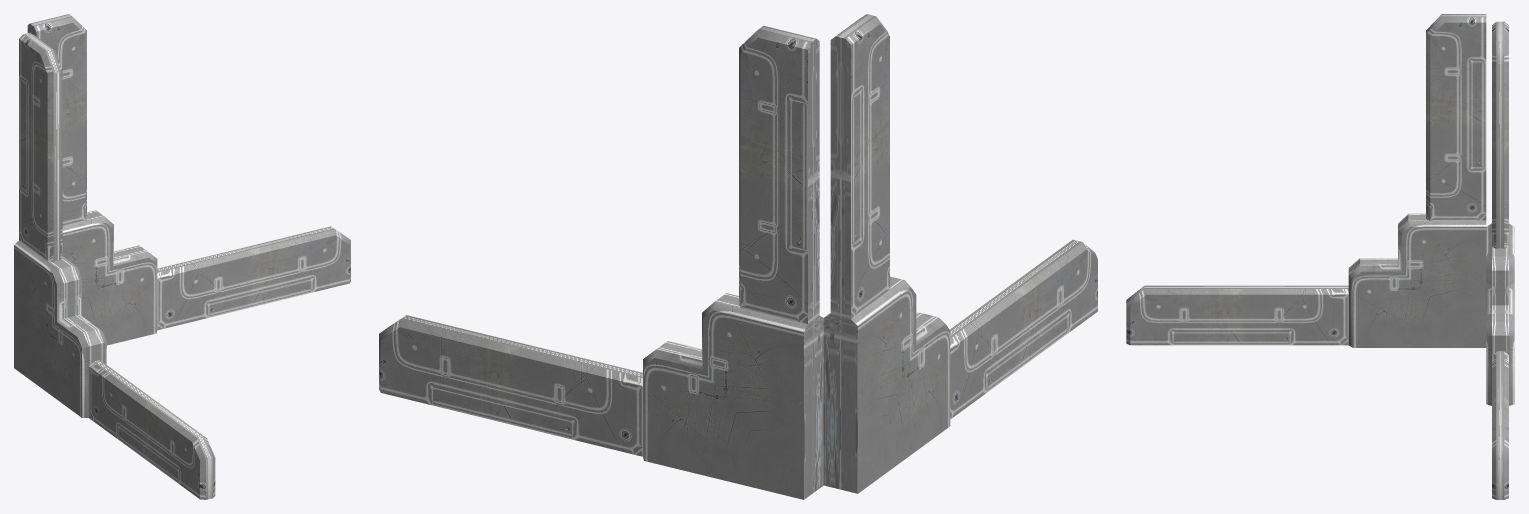
Rendered from SM_SAngle04.fbx.
The picture shows the model from 3 angles, left to right: view 1: azimuth 30°, elevation 25°; view 2: azimuth 150°, elevation 25°; view 3: azimuth 270°, elevation 25°; orthographic projection. The views are drawn at different scales.
Parts seen in each view (by area): view 1: SM_SAngle04_LOD0; view 2: SM_SAngle04_LOD0; view 3: SM_SAngle04_LOD0.
Boxes of the visible parts, box(x1,y1,x2,y2) form: SM_SAngle04_LOD0: box(14, 14, 350, 499); SM_SAngle04_LOD0: box(379, 14, 1097, 499); SM_SAngle04_LOD0: box(1126, 14, 1514, 499).
Size of the model in its own units: 341 by 341 by 316.
Materials: 1 (1 with a texture image).
